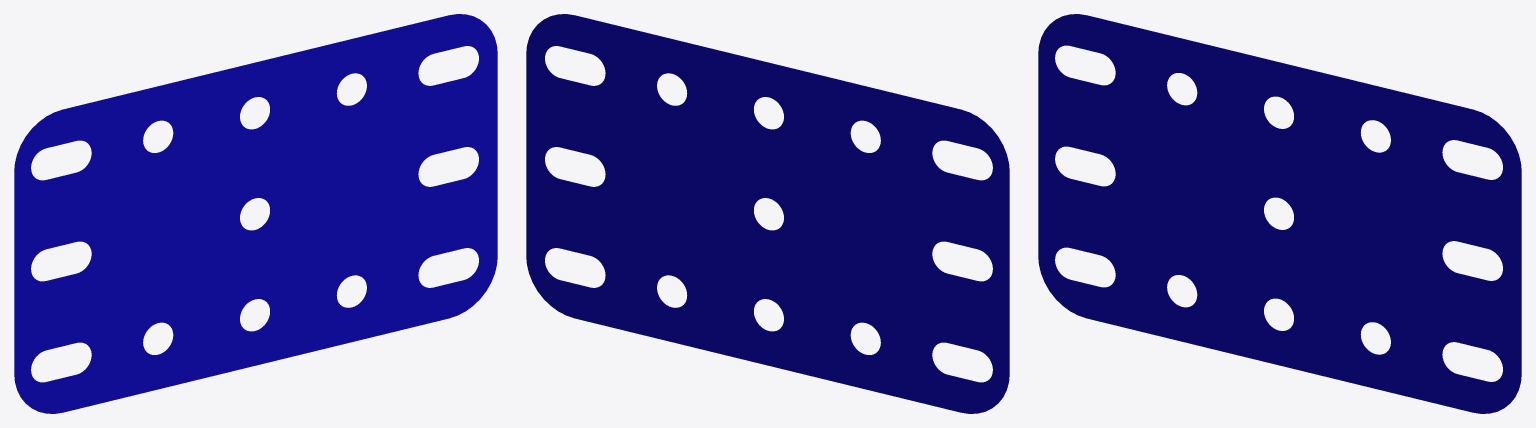
File: TamPhang_3x5_NhuaMem_XanhDuong.glb
3 views of the same model, side by side, from view 1: azimuth 30°, elevation 25°; view 2: azimuth 150°, elevation 25°; view 3: azimuth 330°, elevation 25° (orthographic).
Visible parts, largest first — view 1: defaultobject; view 2: defaultobject; view 3: defaultobject.
Part boxes in pixels (x1,y1,x2,y2): defaultobject: [14, 14, 497, 413]; defaultobject: [526, 14, 1009, 413]; defaultobject: [1038, 14, 1521, 413].
Bounding box in the file's own units: 158 × 94.87 × 0.126.
